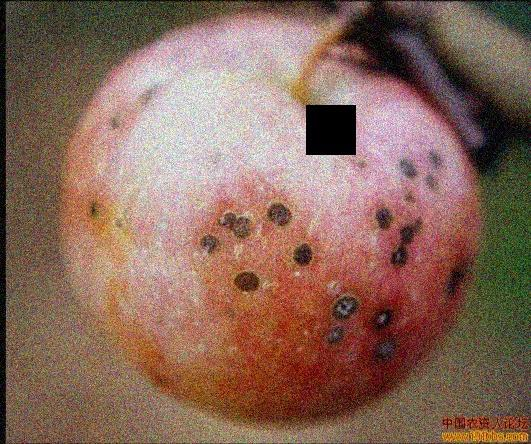rotten apple: (58, 13, 477, 425)
